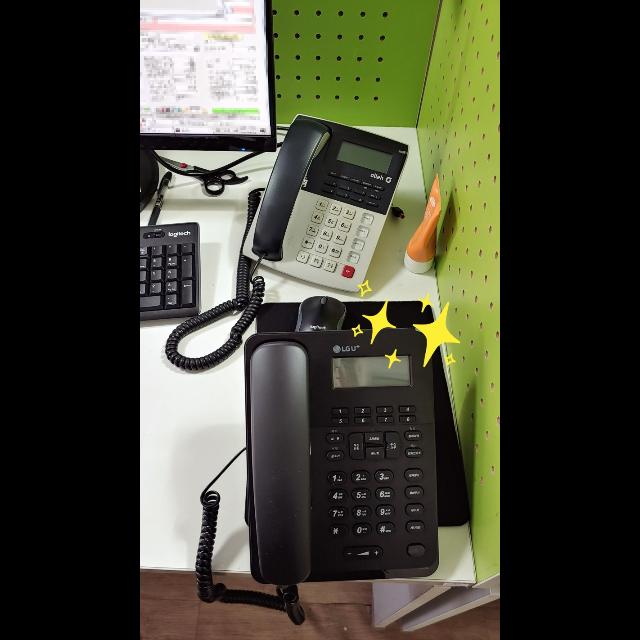Telephone-Set: (245, 331, 438, 579), (242, 114, 412, 292)
